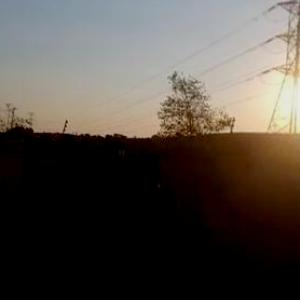follow: (110, 147, 184, 299)
